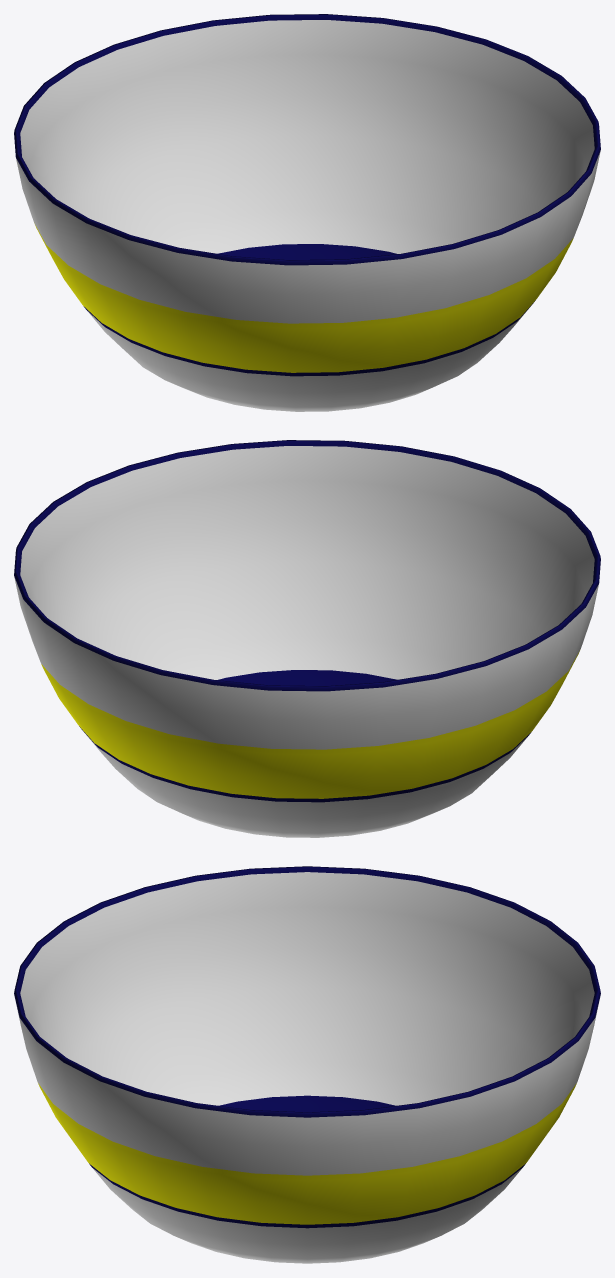
Rendered from Meyve Tabağı.fbx.
3 views of the same model, one above another, from view 1: azimuth 30°, elevation 25°; view 2: azimuth 150°, elevation 25°; view 3: azimuth 270°, elevation 25° (orthographic).
Parts seen in each view (by area): view 1: Meyve Tabağı; view 2: Meyve Tabağı; view 3: Meyve Tabağı.
Boxes of the visible parts, left/top/right/bottom form: Meyve Tabağı: left=14, top=14, right=600, bottom=411; Meyve Tabağı: left=14, top=440, right=600, bottom=837; Meyve Tabağı: left=14, top=866, right=600, bottom=1263.
Size of the model in its own units: 338 by 131 by 338.
